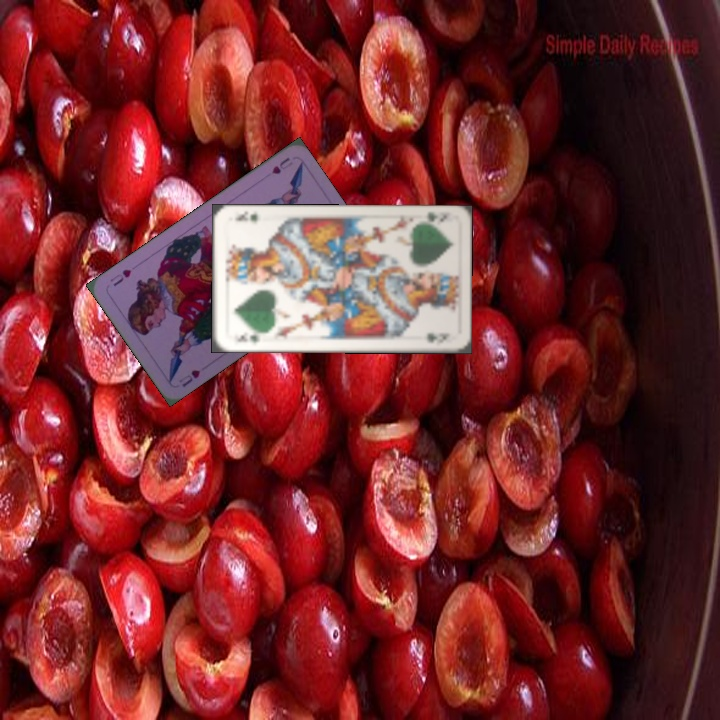GK: (230, 328, 263, 346), (422, 209, 449, 225)
HU: (175, 365, 203, 390), (267, 153, 295, 177)
